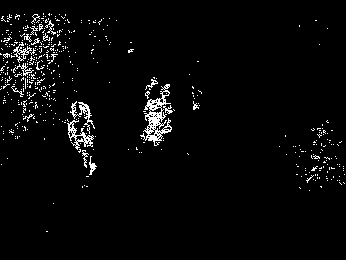person: (65, 100, 99, 177)
